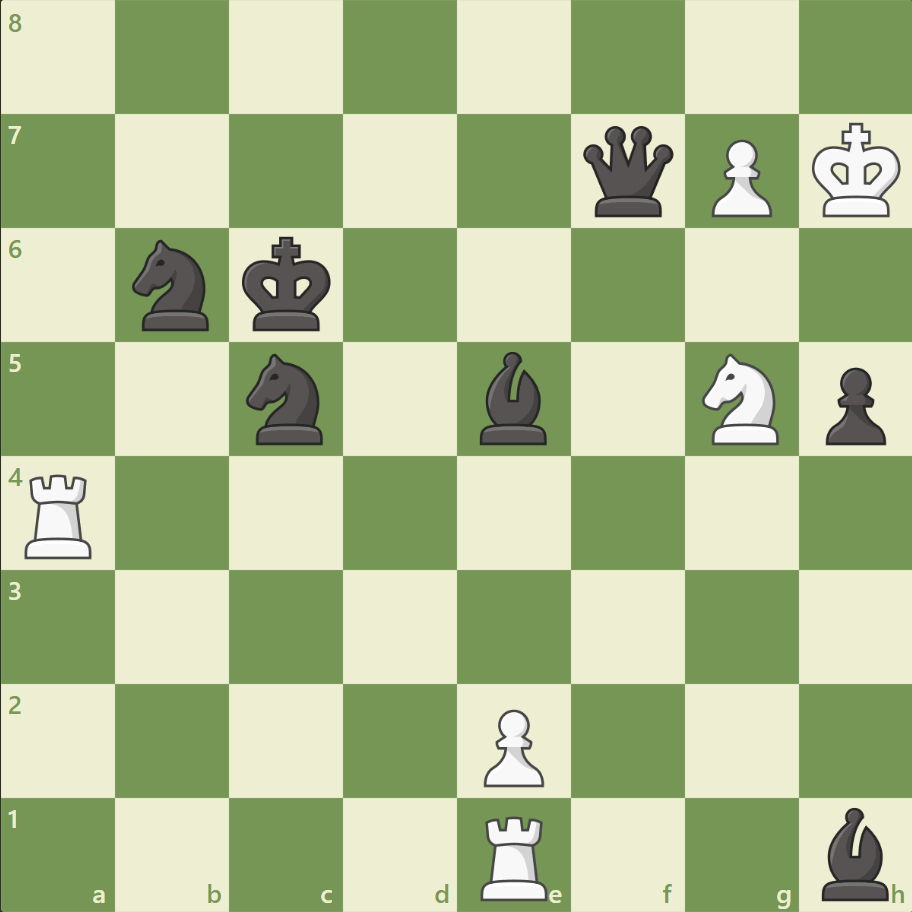K: (806, 117, 906, 225)
N: (692, 348, 789, 450)
P: (701, 132, 776, 223), (474, 700, 549, 791)
R: (473, 806, 556, 904), (19, 466, 102, 563)
b: (812, 801, 896, 904), (471, 347, 555, 449)
k: (238, 231, 338, 339)
n: (124, 234, 222, 337), (238, 348, 335, 450)
p: (815, 359, 889, 450)
q: (578, 122, 677, 222)
